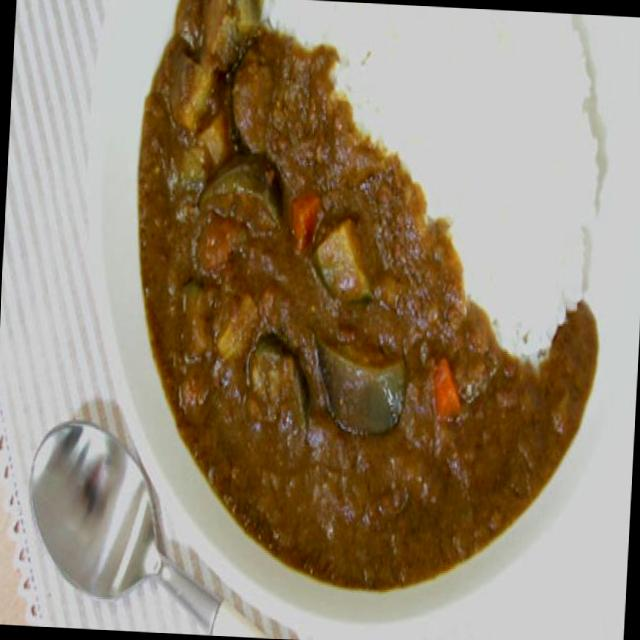Beef Curry: (113, 0, 614, 589)
